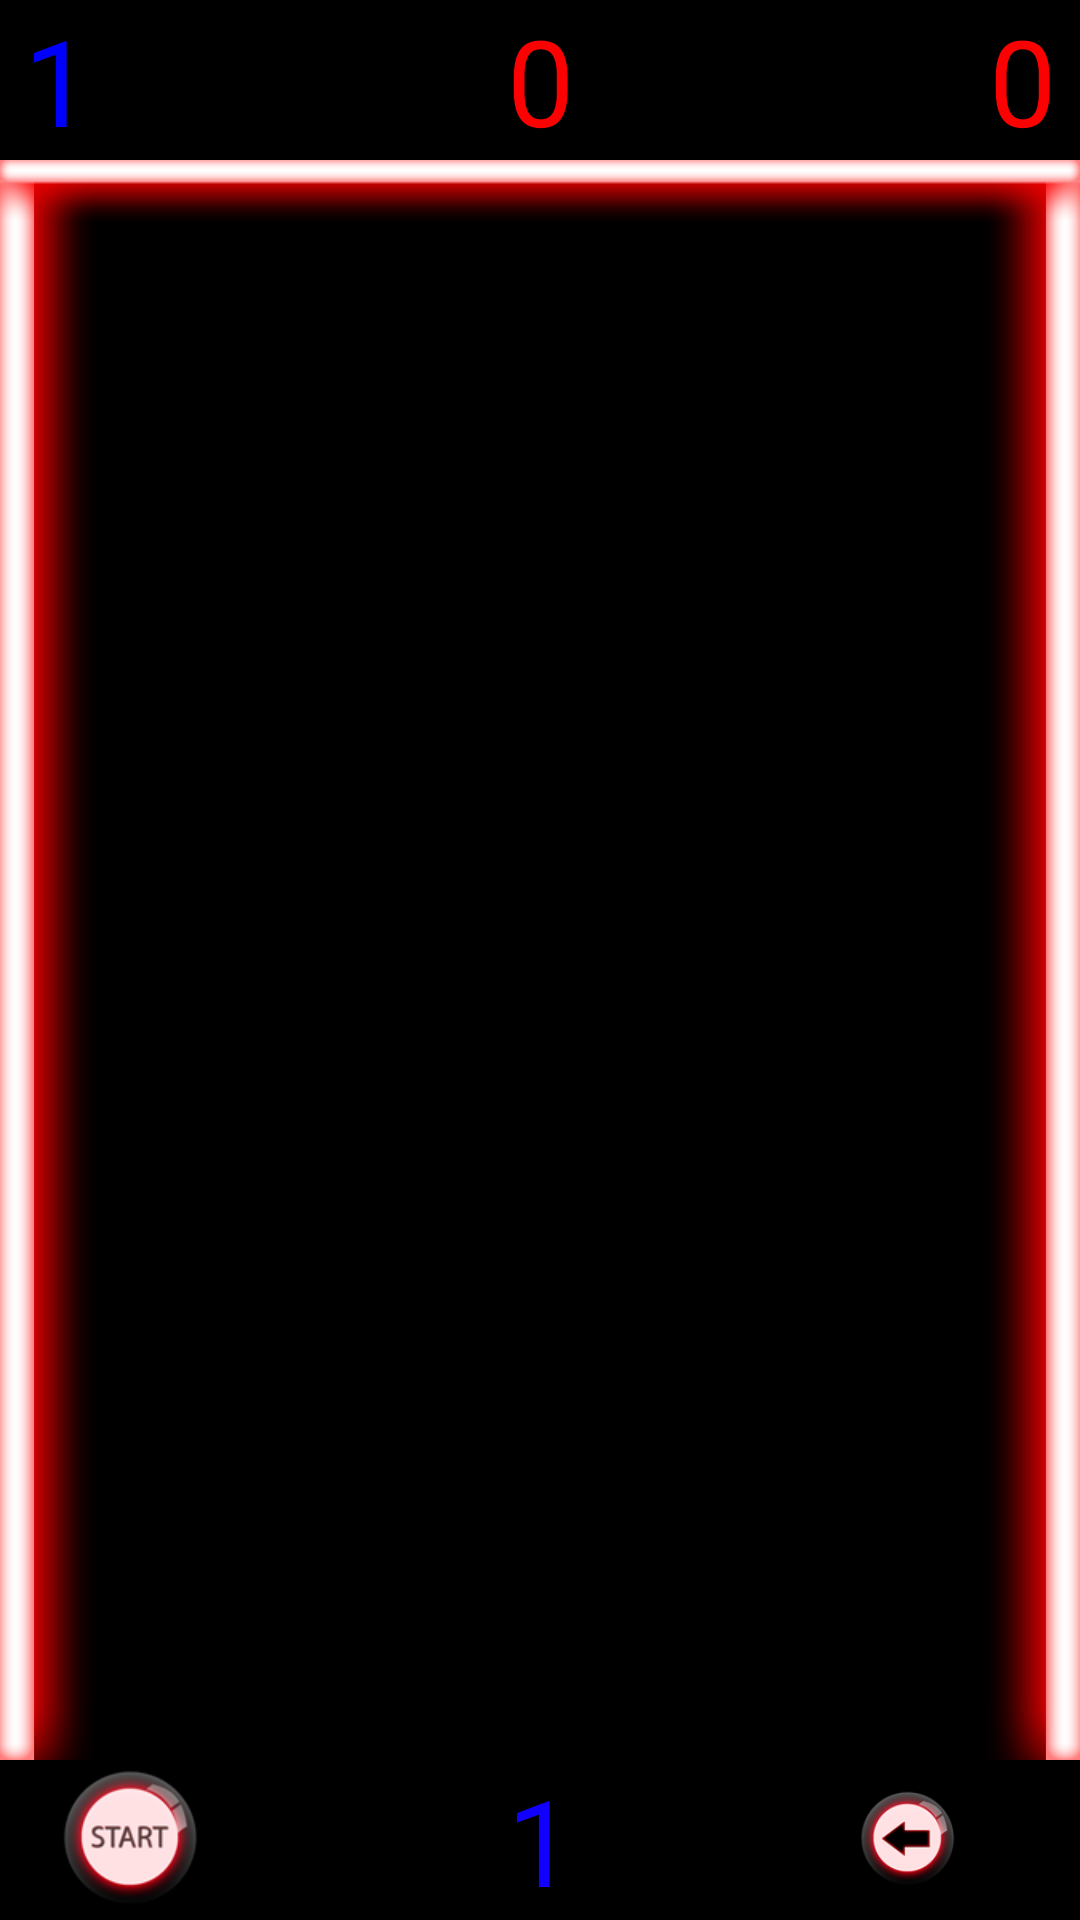

Where to tap for icons on this 1080w x 1920h app screen, as (x=x, y=y):
back: (x=907, y=1835)
